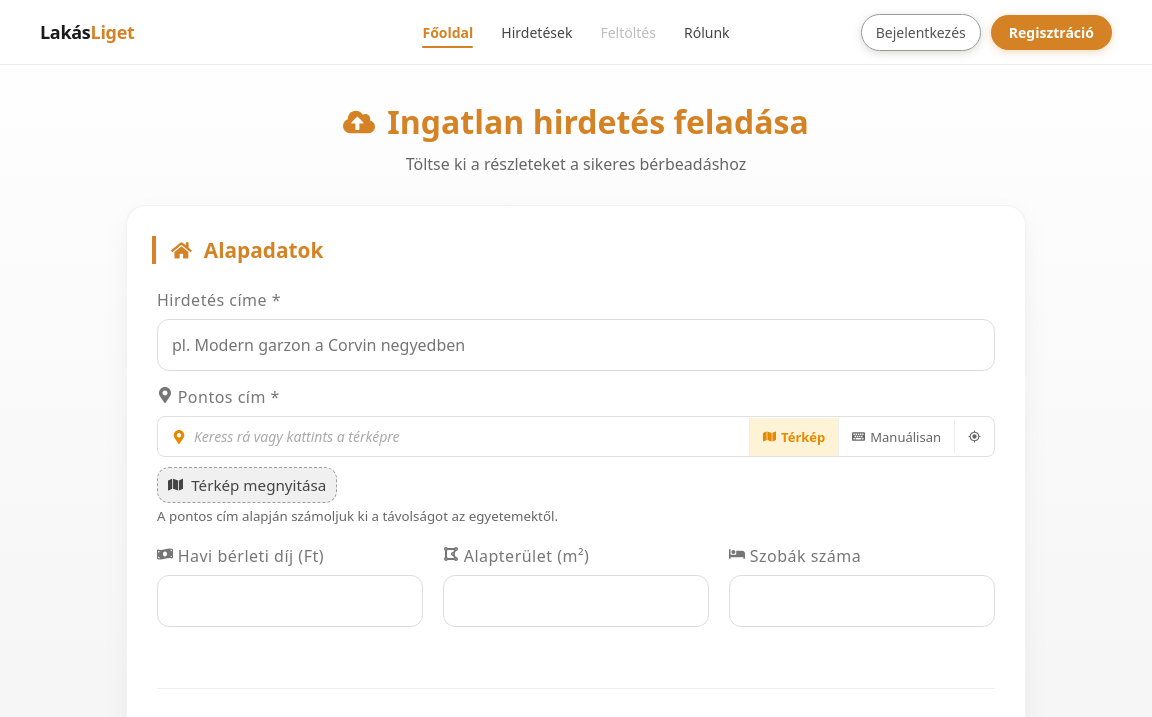
it: ApForm – új hirdetés mód › Manuálisan gombra kattintva szöveges input jelenik meg a cím mezőben
This screenshot has width=1152, height=717.
Click the button titled "kézzel gépelés" at (896, 436), box [838,418,954,456]
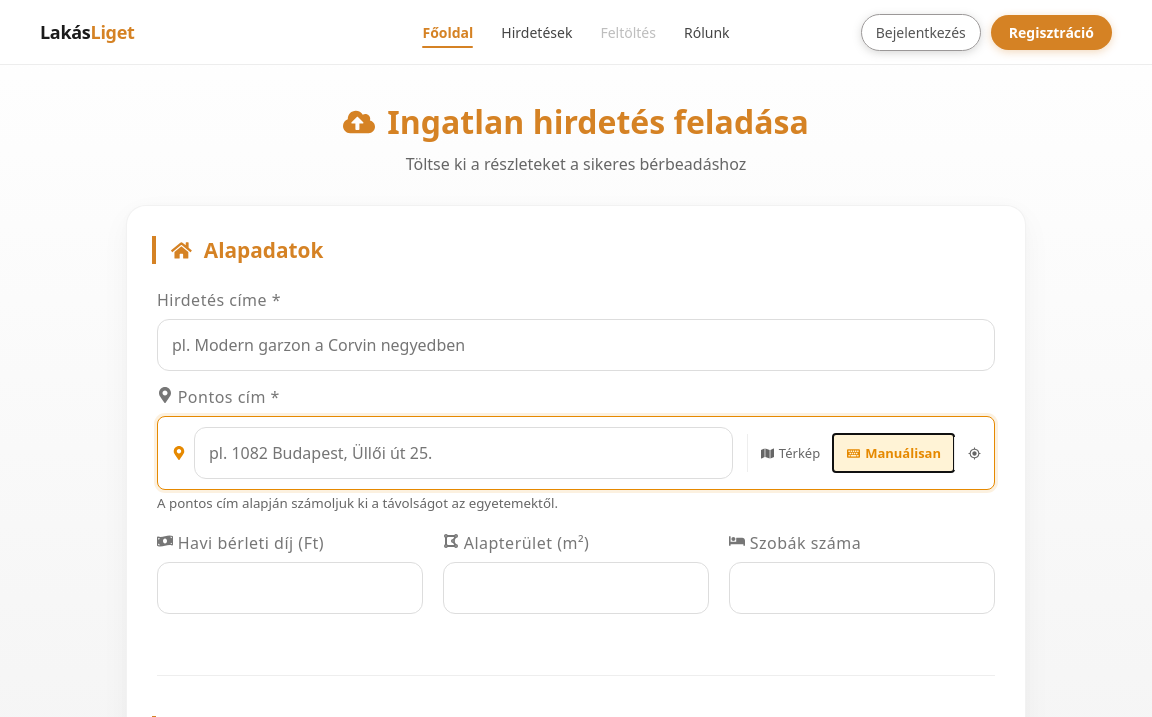
Check: the field with placeholder "pl. 1082 Budapest, Üllői út 25." is shown, box [194,427,733,479]
